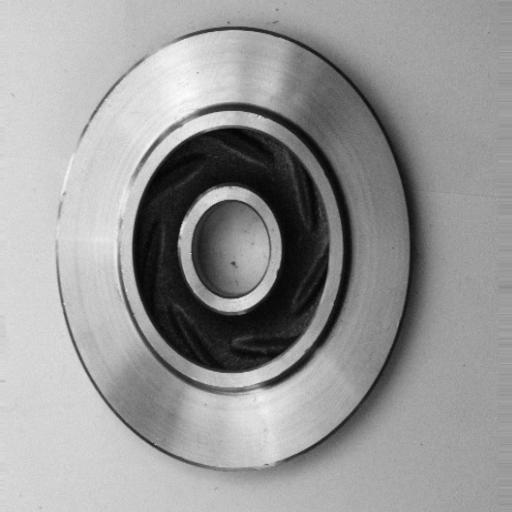scratch: (109, 161, 141, 245)
unpolished_casting: (55, 26, 415, 482)
